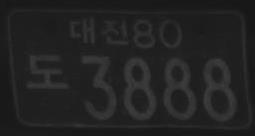0: (158, 17, 183, 49)
3: (80, 53, 118, 121)
8: (121, 54, 158, 121), (201, 56, 238, 123), (161, 55, 197, 121), (131, 17, 156, 50)
대전_O: (67, 17, 130, 47)
도: (24, 52, 70, 90)
